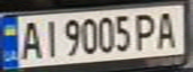0: (78, 15, 100, 55), (97, 14, 118, 54)
5: (112, 11, 136, 52)
9: (60, 16, 81, 57)
A: (15, 18, 45, 61), (151, 8, 181, 50)
I: (39, 17, 60, 59)
P: (133, 10, 160, 51)
